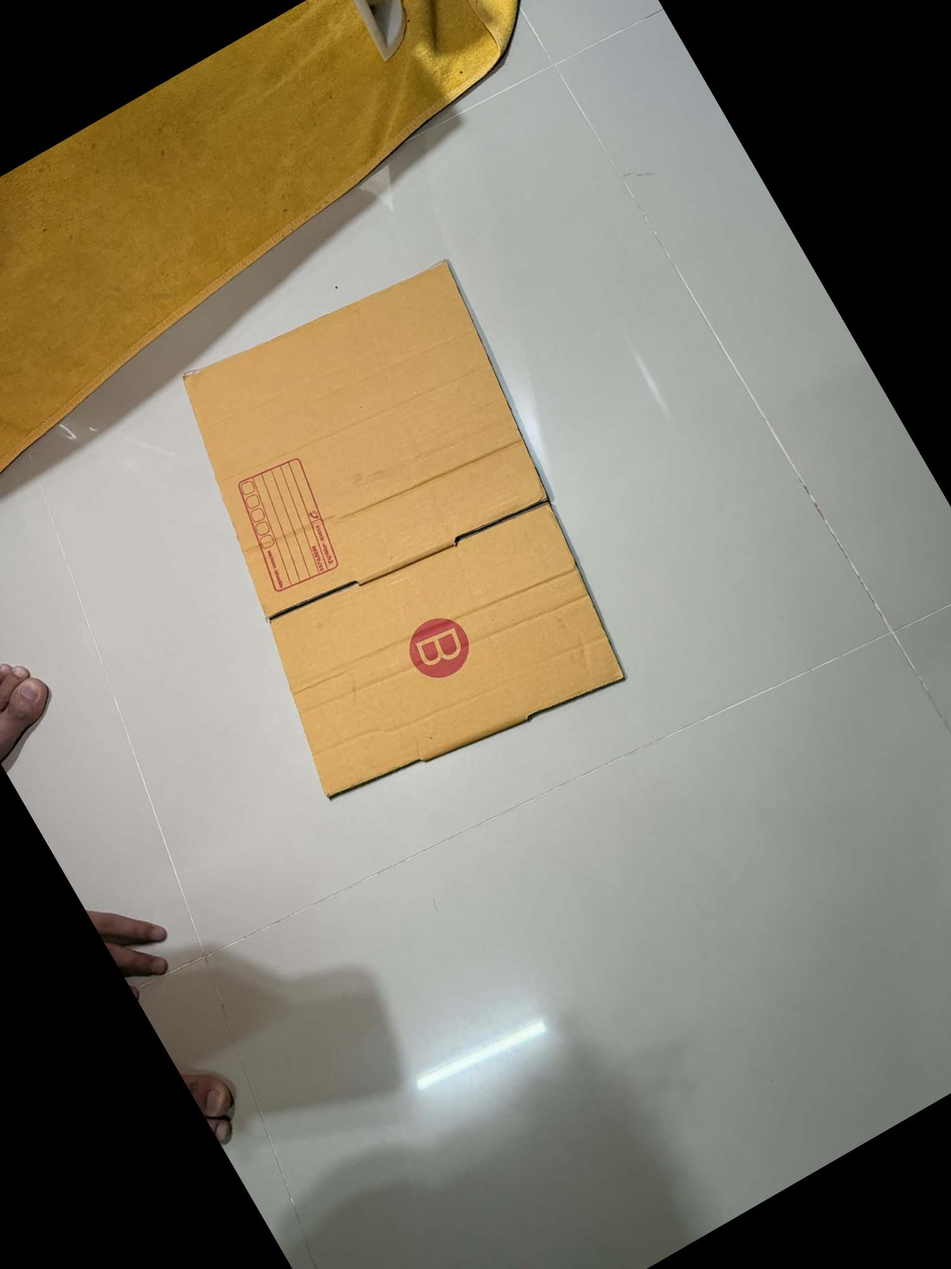box: (212, 446, 359, 604), (396, 601, 482, 687)
class0: (112, 238, 688, 841)
